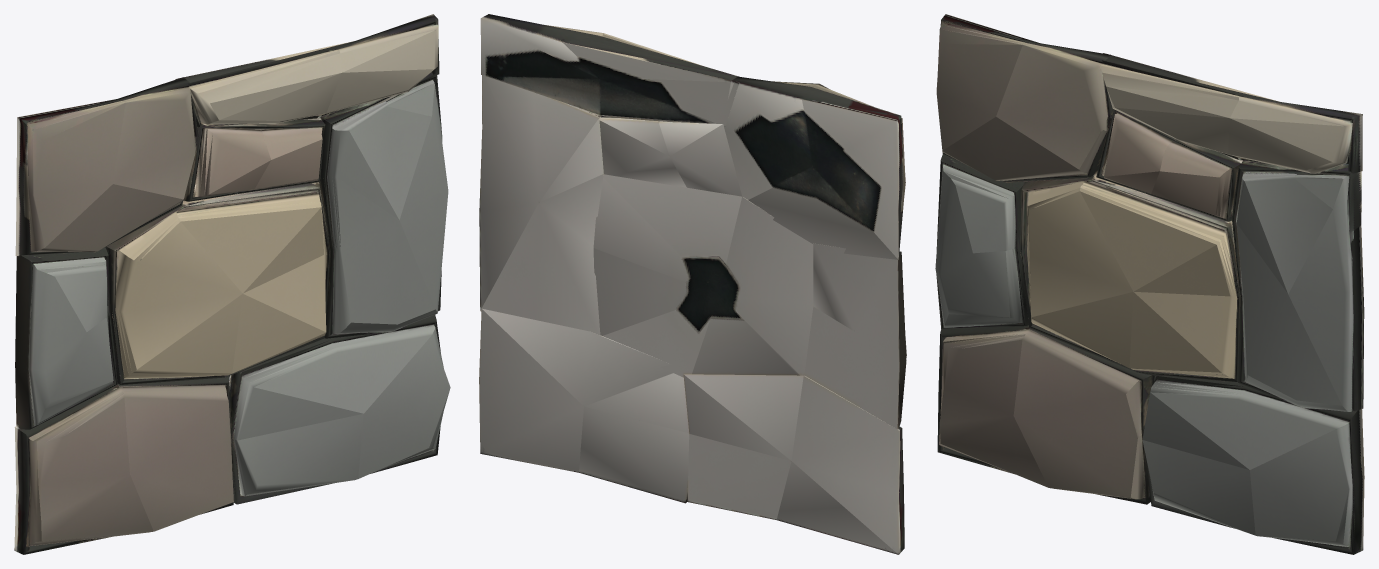
Rendered from road_tile_a.glb.
3 views of the same model, side by side, from view 1: azimuth 30°, elevation 25°; view 2: azimuth 150°, elevation 25°; view 3: azimuth 330°, elevation 25° (orthographic).
Visible parts, largest first — view 1: mesh_node; view 2: mesh_node; view 3: mesh_node.
Boxes of the visible parts, x1,y1,x2,y2 form: mesh_node: (14,14,450,554); mesh_node: (479,14,906,554); mesh_node: (935,14,1364,554).
Bounding box in the file's own units: 1 × 0.9961 × 0.0957.
1 material, 1 textured.
